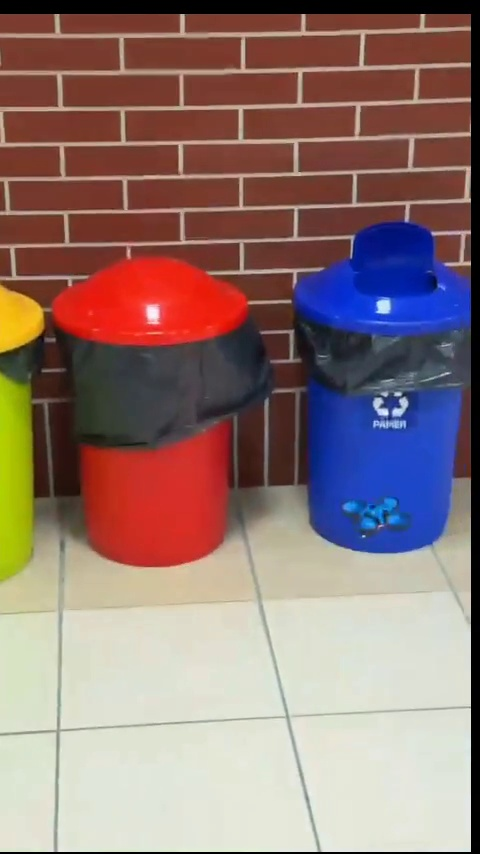drone: (342, 495, 401, 537)
